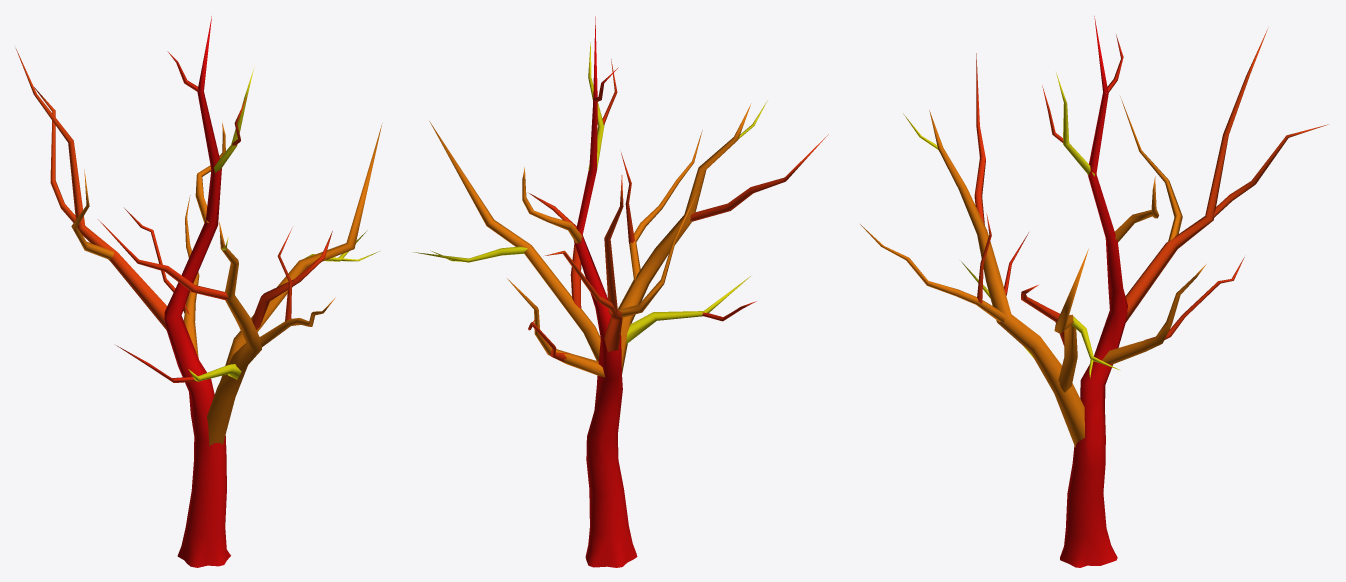
The model's file is G_Banyan_006_S1.fbx.
The picture shows the model from 3 angles, left to right: view 1: azimuth 30°, elevation 25°; view 2: azimuth 150°, elevation 25°; view 3: azimuth 270°, elevation 25°; orthographic projection. The views are drawn at different scales.
Visible parts, largest first — view 1: G_Banyan_006_S1_P01_LOD0; view 2: G_Banyan_006_S1_P01_LOD0; view 3: G_Banyan_006_S1_P01_LOD0.
Part boxes in pixels (x1,y1,x2,y2): G_Banyan_006_S1_P01_LOD0: (15,16,382,567); G_Banyan_006_S1_P01_LOD0: (413,16,828,567); G_Banyan_006_S1_P01_LOD0: (860,16,1328,567).
Size of what is drawn, in the model's own units: 383 by 573 by 449.
